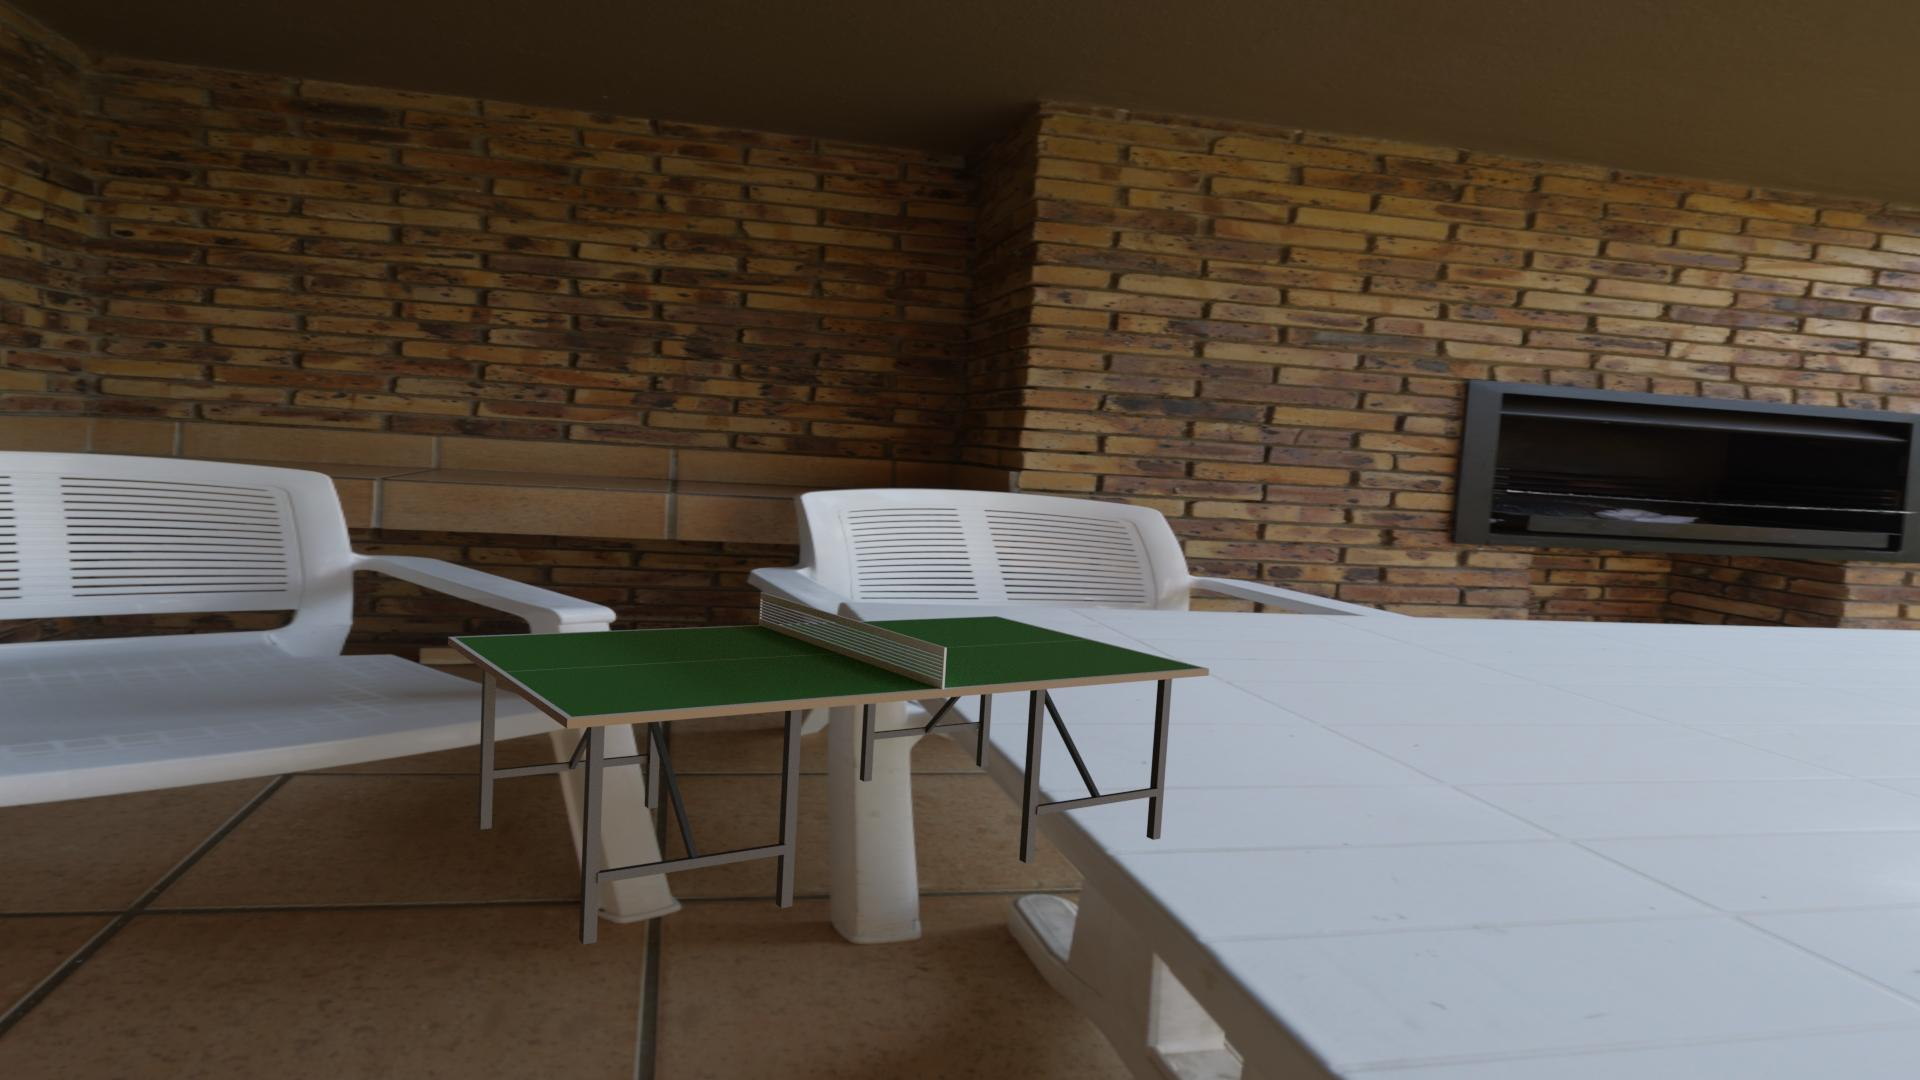table: (455, 617, 1203, 717)
